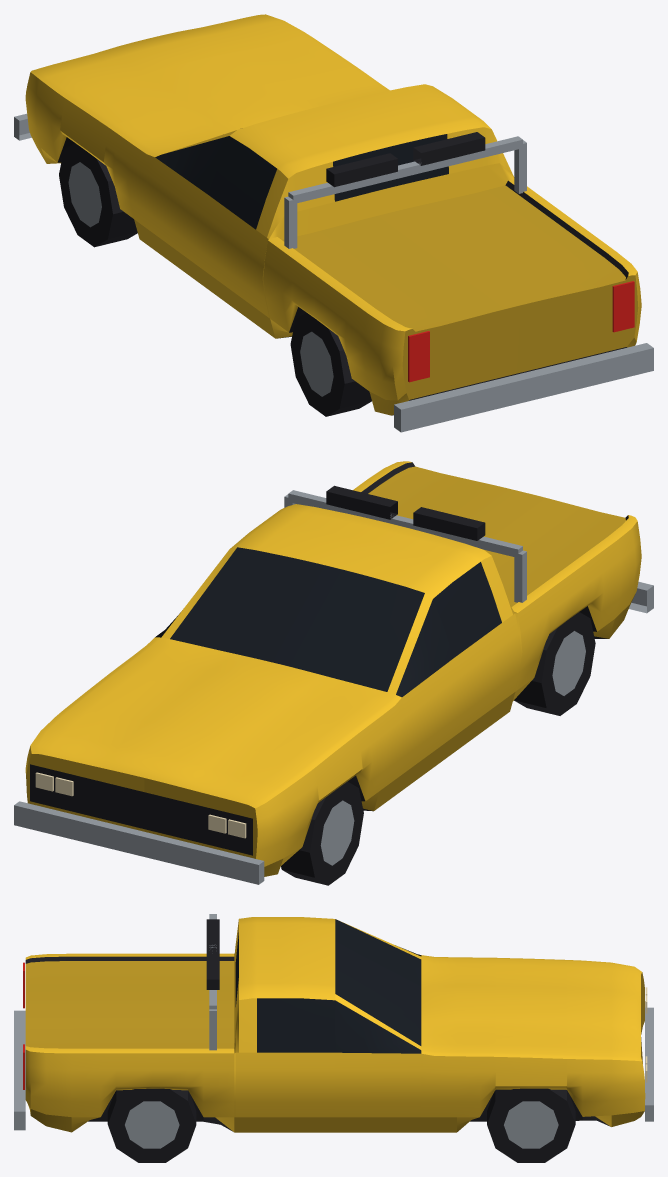
Rendered from daybreak_lod1.glb.
3 views of the same model, one above another, from view 1: azimuth 30°, elevation 25°; view 2: azimuth 150°, elevation 25°; view 3: azimuth 270°, elevation 25° (orthographic). The views are drawn at different scales.
Parts seen in each view (by area): view 1: Body; view 2: Body; view 3: Body.
Boxes of the visible parts, x1,y1,x2,y2 form: Body: [14, 14, 653, 432]; Body: [14, 461, 653, 885]; Body: [14, 914, 653, 1162].
Size of the model in its own units: 1.9 by 1.4 by 4.98.
